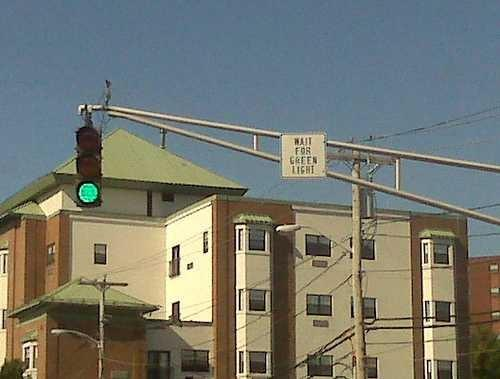green: (75, 125, 102, 208), (75, 180, 100, 207)
